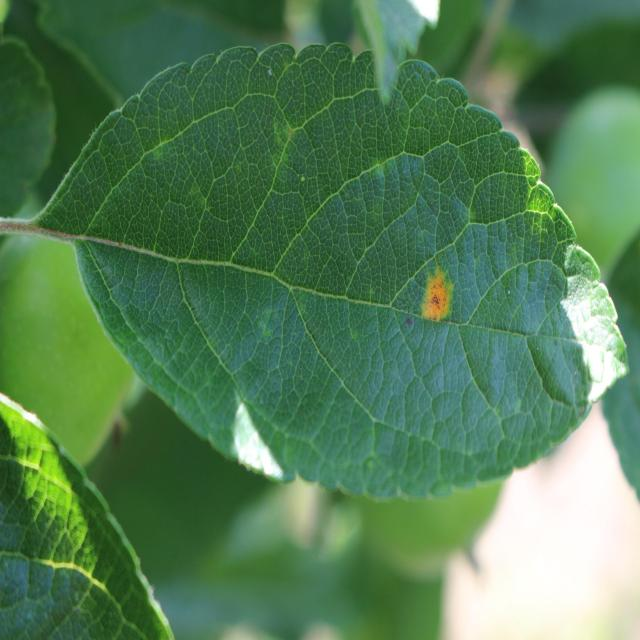Rust: (407, 257, 464, 342)
